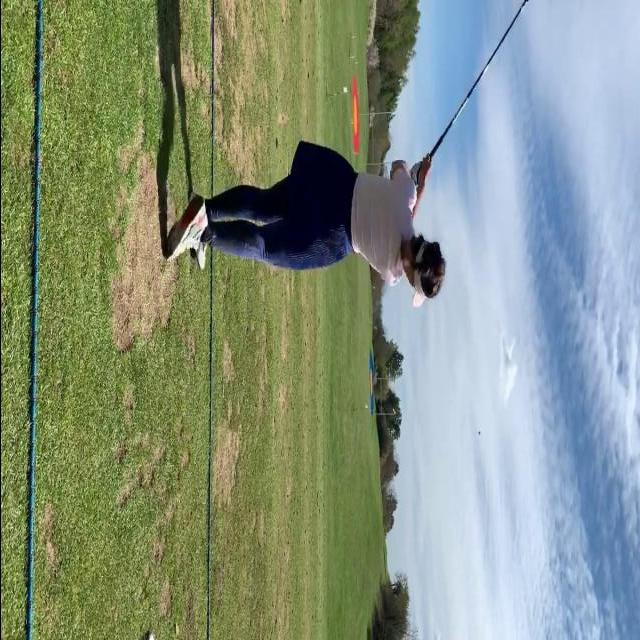golf club-handle: (429, 0, 527, 158)
